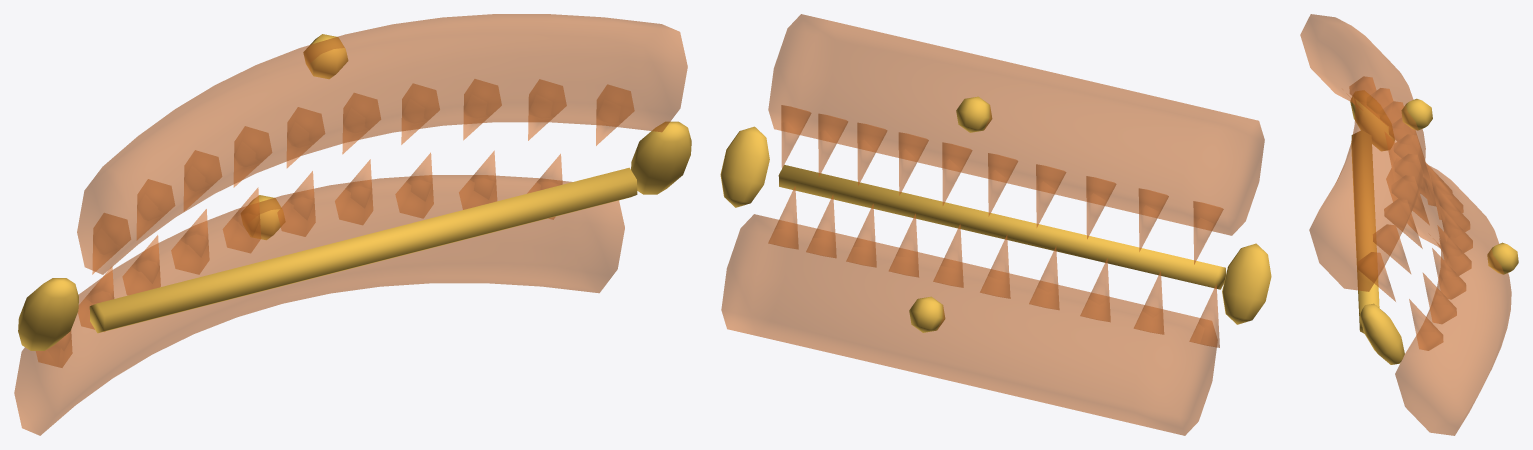
Rendered from claw_clip.glb.
3 views of the same model, side by side, from view 1: azimuth 30°, elevation 25°; view 2: azimuth 150°, elevation 25°; view 3: azimuth 270°, elevation 25° (orthographic). The views are drawn at different scales.
Visible parts, largest first — view 1: claw_clip; view 2: claw_clip; view 3: claw_clip.
Boxes of the visible parts, box(x1,y1,x2,y2) form: claw_clip: box(14, 14, 691, 435); claw_clip: box(720, 14, 1271, 435); claw_clip: box(1300, 14, 1518, 435).
Bounding box in the file's own units: 0.1 × 0.0508 × 0.0398.
